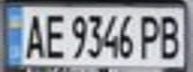3: (84, 11, 106, 60)
4: (103, 10, 121, 60)
6: (118, 11, 139, 60)
9: (66, 11, 87, 60)
A: (21, 10, 48, 60)
B: (154, 11, 187, 61)
E: (42, 10, 69, 61)
P: (136, 11, 163, 61)
